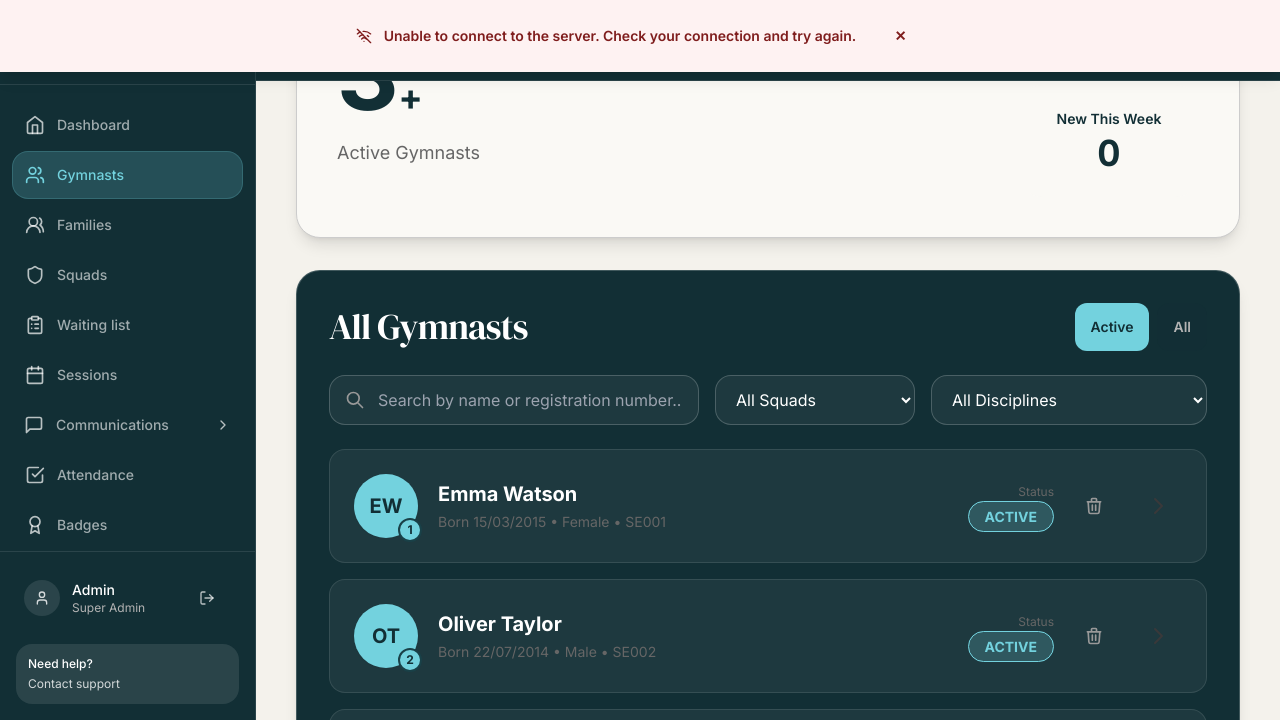
Test: MembersPage › shows a filtered count when searching
(page scrolled)
Expected: the heading "Emma Watson" is shown, [438,482,577,506]
Type "Emma" into the field with placeholder "Search by name or registration number..." at (514, 400), box [329,375,699,425]
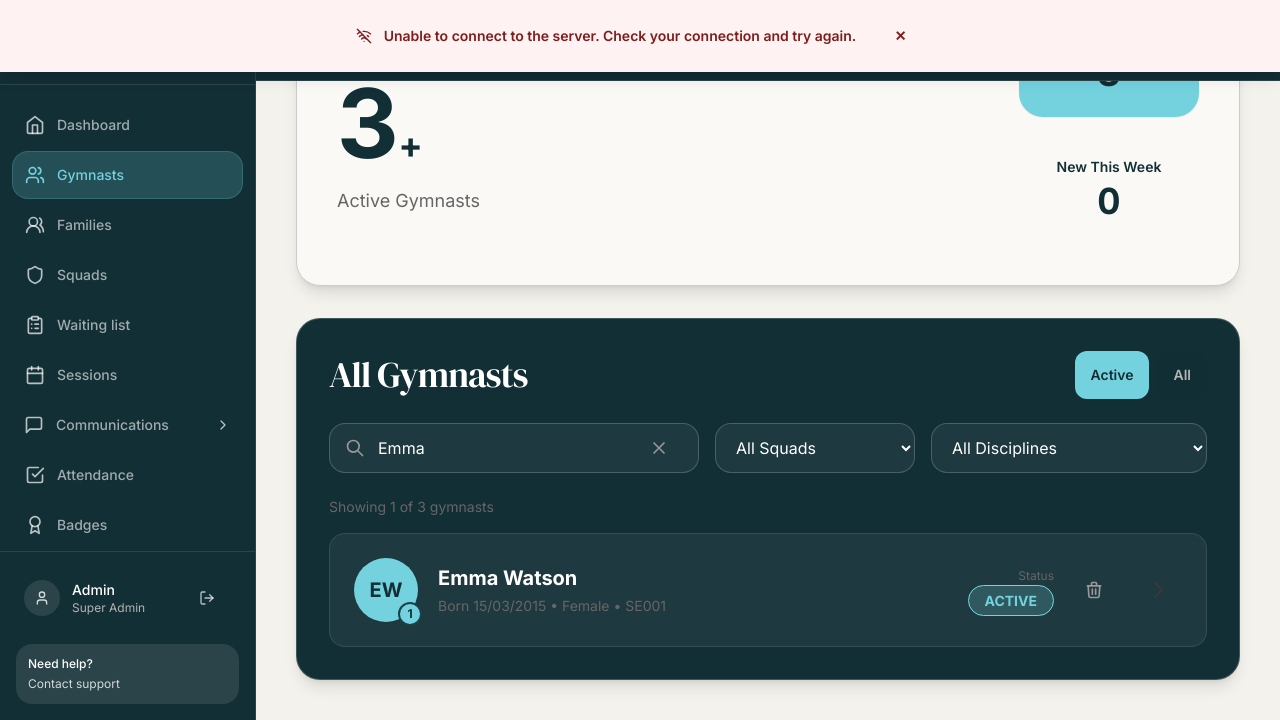
Expected: the text "Showing 1 of 3 gymnasts" is shown, [329,498,494,515]
